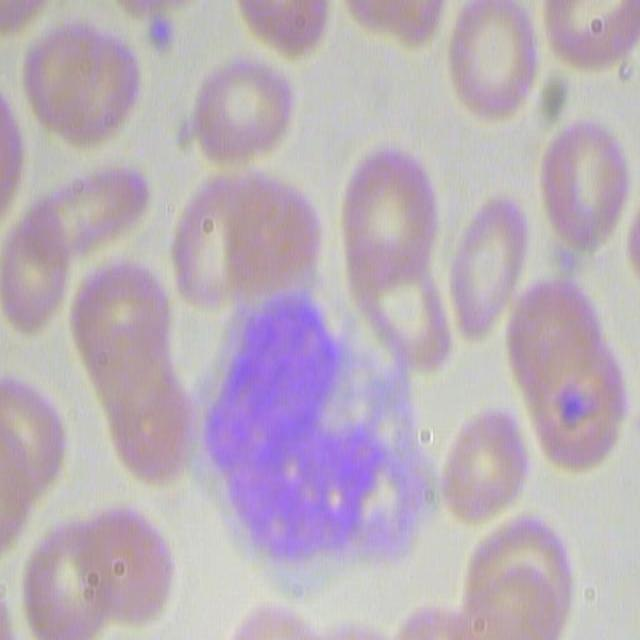RBC: (64, 278, 201, 493), (506, 280, 628, 488), (332, 140, 442, 331), (14, 508, 184, 623), (15, 4, 141, 155), (172, 203, 344, 299), (460, 511, 577, 640), (176, 54, 294, 172), (535, 116, 631, 260), (438, 1, 543, 126), (444, 401, 549, 518), (444, 199, 529, 342), (0, 383, 63, 564), (26, 171, 164, 244), (243, 592, 452, 640), (0, 220, 70, 339), (532, 0, 638, 75), (232, 0, 337, 69), (331, 0, 469, 49)
WBC: (234, 316, 432, 545)
platelets: (142, 10, 179, 59)
